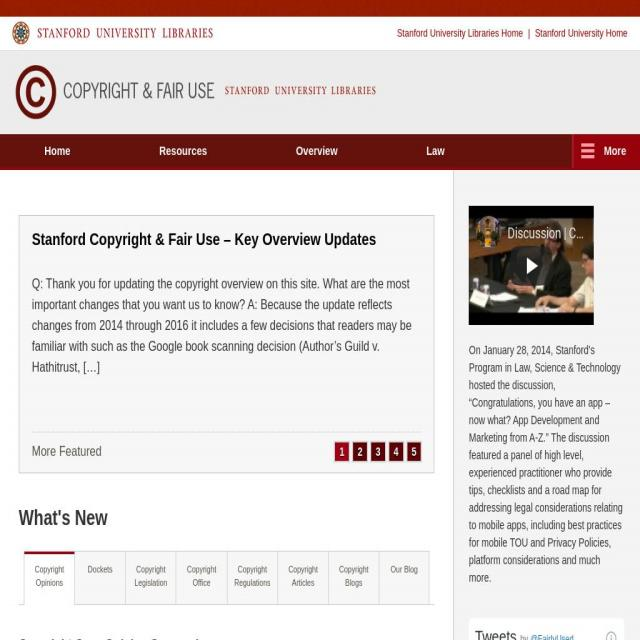navigation-links: (16, 544, 436, 600), (39, 138, 456, 173)
options: (572, 134, 637, 167)
video: (464, 203, 607, 333)
